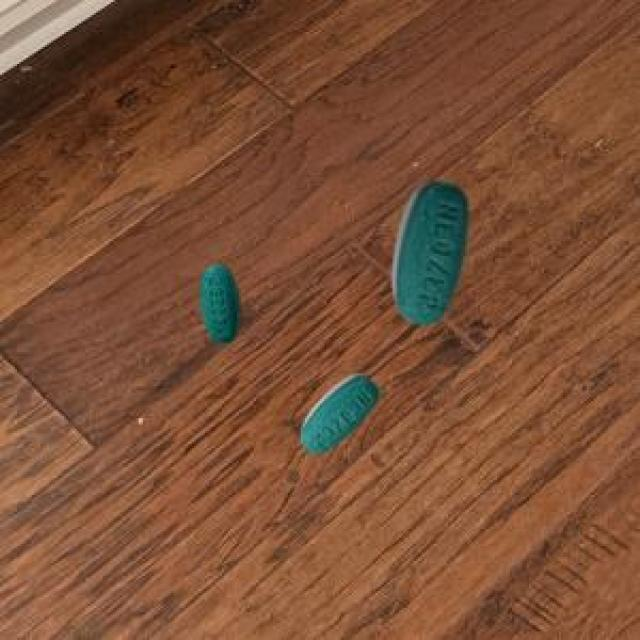Neozep: (375, 167, 483, 341), (291, 371, 389, 462), (190, 245, 254, 354)
